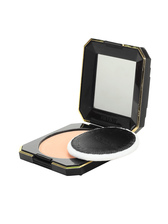other: (11, 29, 152, 180)
